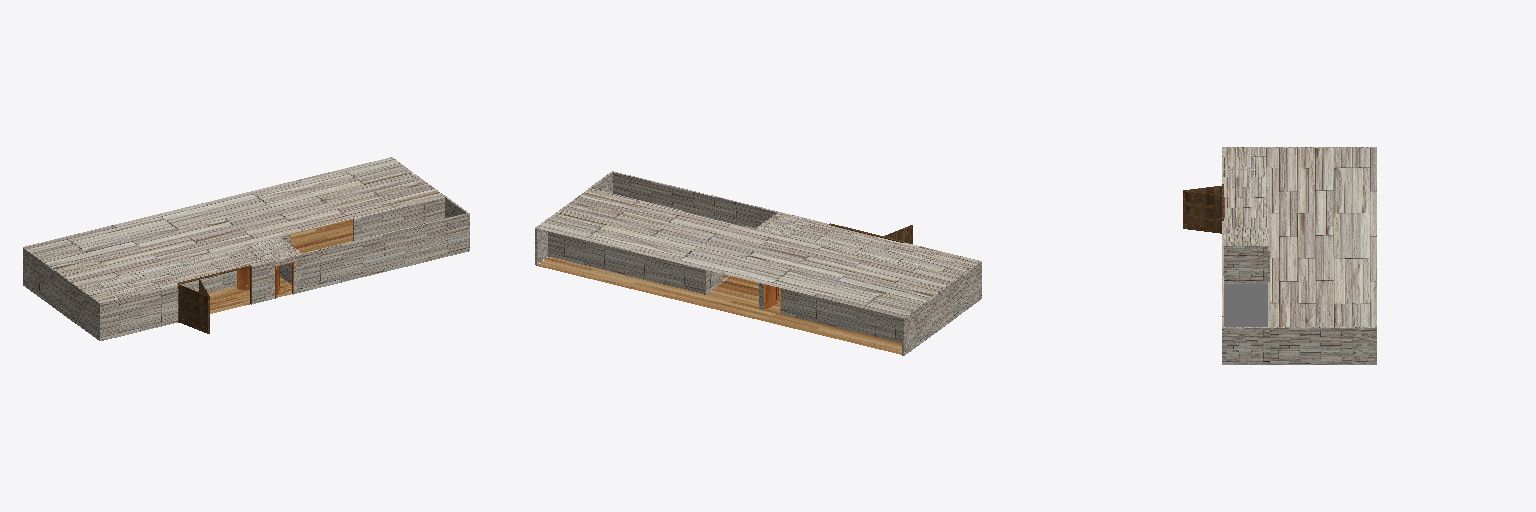
3 views of the same model, side by side, from view 1: azimuth 30°, elevation 25°; view 2: azimuth 150°, elevation 25°; view 3: azimuth 270°, elevation 25° (orthographic).
Visible parts, largest first — view 1: Plane012, patio, estaciona, Plane008, Wall007, BiFoldDoor001, Plane010, Plane009, Plane005, paredpuerta; view 2: Plane012, Plane010, Wall007, Wall006, patio, Plane008, estaciona, Plane009, Wall008; view 3: Plane012, patio, Plane008, Wall006, Plane007, BiFoldDoor001, Wall009, Plane009.
Boxes of the visible parts, x1=… form: Plane012: x1=24, y1=157, x2=443, y2=285; patio: x1=280, y1=196, x2=469, y2=291; estaciona: x1=76, y1=246, x2=267, y2=340; Plane008: x1=79, y1=246, x2=264, y2=301; Wall007: x1=35, y1=256, x2=75, y2=323; BiFoldDoor001: x1=177, y1=265, x2=251, y2=333; Plane010: x1=290, y1=219, x2=352, y2=252; Plane009: x1=243, y1=237, x2=301, y2=262; Plane005: x1=208, y1=286, x2=249, y2=313; paredpuerta: x1=268, y1=255, x2=301, y2=299; Plane012: x1=536, y1=189, x2=955, y2=317; Plane010: x1=537, y1=257, x2=901, y2=354; Wall007: x1=759, y1=279, x2=957, y2=346; Wall006: x1=548, y1=190, x2=730, y2=294; patio: x1=588, y1=171, x2=777, y2=234; Plane008: x1=793, y1=221, x2=978, y2=276; estaciona: x1=791, y1=221, x2=981, y2=315; Plane009: x1=756, y1=212, x2=814, y2=237; Wall008: x1=902, y1=309, x2=915, y2=355; Plane012: x1=1270, y1=148, x2=1376, y2=326; patio: x1=1222, y1=246, x2=1269, y2=364; Plane008: x1=1224, y1=148, x2=1267, y2=227; Wall006: x1=1270, y1=327, x2=1352, y2=364; Plane007: x1=1224, y1=284, x2=1267, y2=326; BiFoldDoor001: x1=1183, y1=184, x2=1223, y2=233; Wall009: x1=1353, y1=327, x2=1376, y2=364; Plane009: x1=1222, y1=229, x2=1269, y2=245.
Bounding box in the file's own units: 1025 × 103 × 466.
Materials: 7 (5 with a texture image).